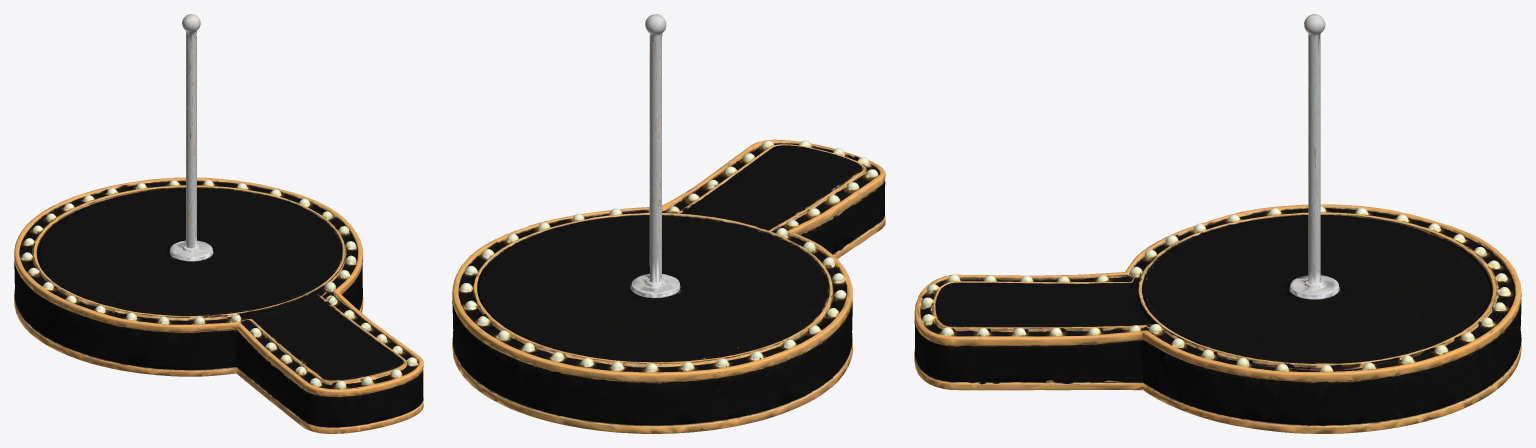
Rendered from main_stage.glb.
3 views of the same model, side by side, from view 1: azimuth 30°, elevation 25°; view 2: azimuth 150°, elevation 25°; view 3: azimuth 270°, elevation 25° (orthographic). The views are drawn at different scales.
Bounding box in the file's own units: 1.26 × 1.15 × 1.9.
1 material, 1 textured.
